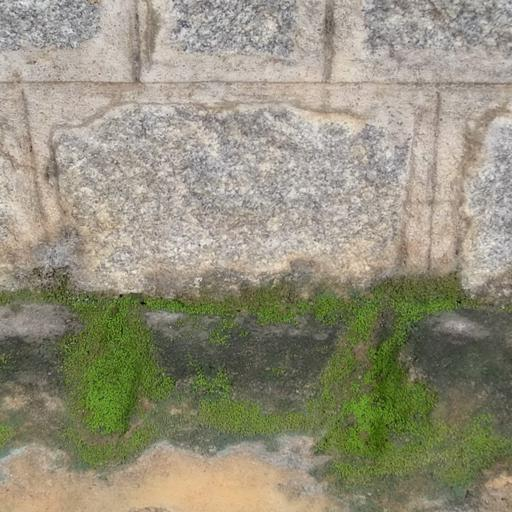algae: (5, 255, 508, 500)
